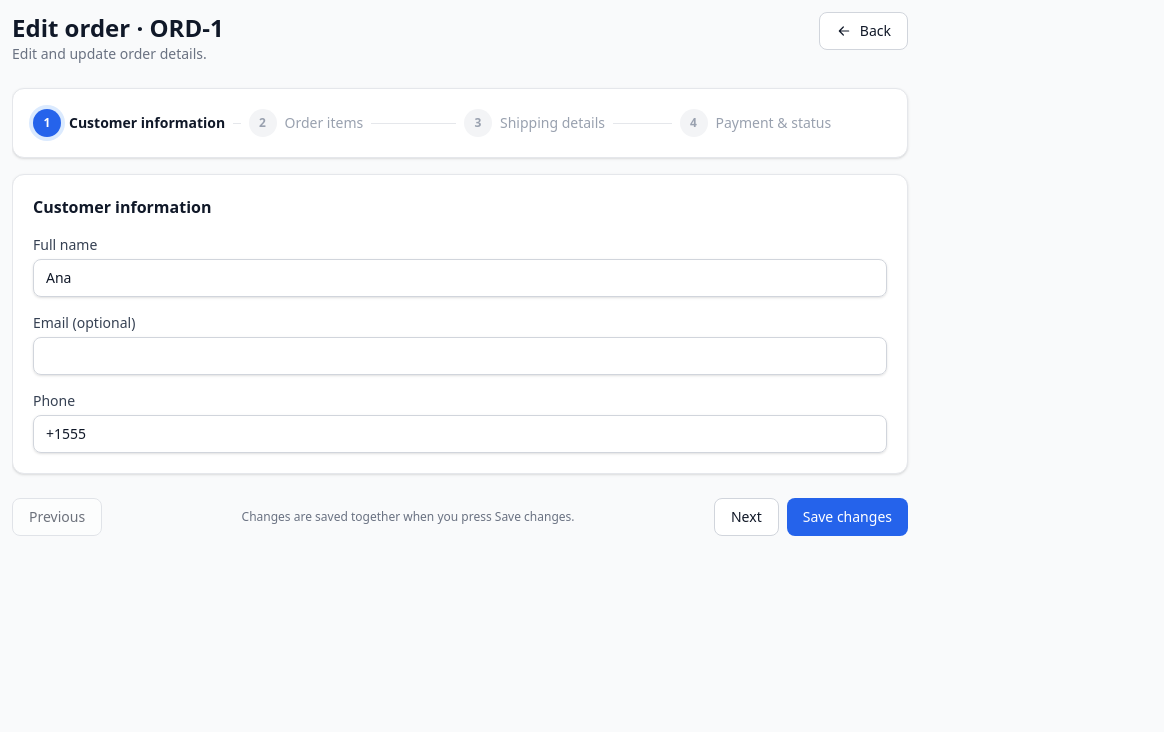
it: order edit page › locks items, shipping and payment status on an order already paid by card
Expected: the field labelled "Full name" is shown, [33,259,887,297]
Click the button "2 Order items" at (306, 123), box [248,109,363,137]
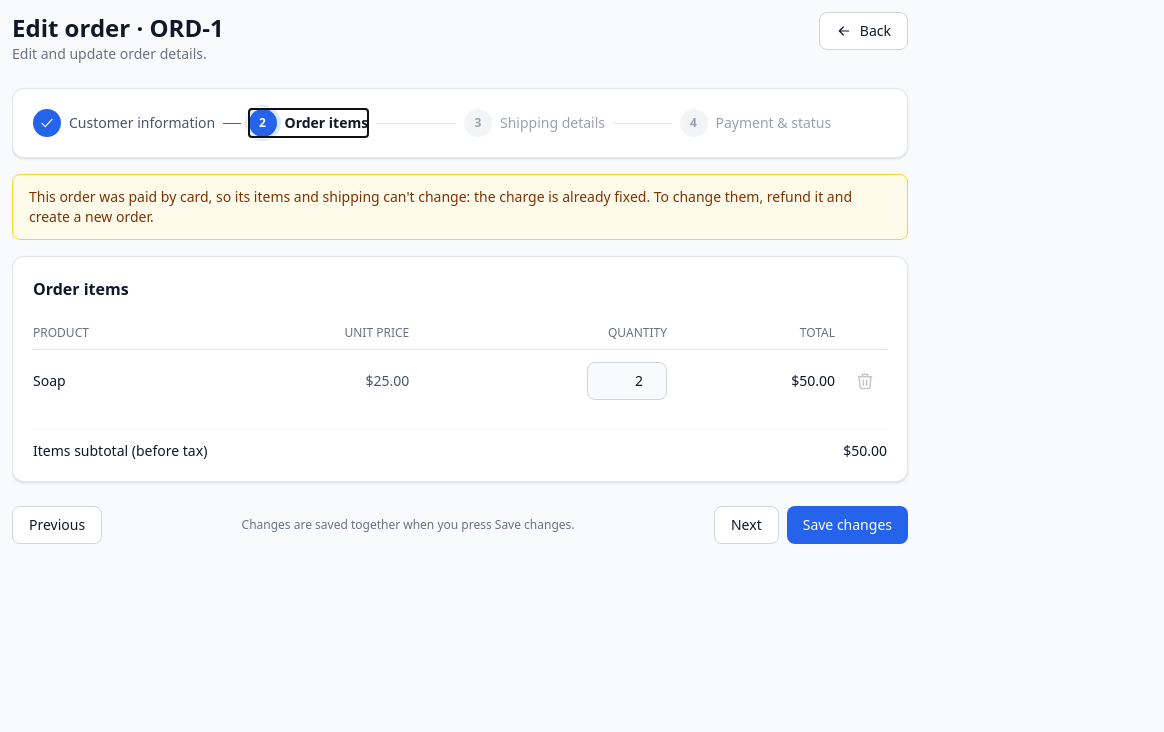
Expected: the text "paid by card" is shown, [29,187,852,226]
Expected: the number field named "Quantity Soap" is disabled, [587,362,667,400]
Click the button "3 Shipping details" at (534, 123), box [464,109,605,137]
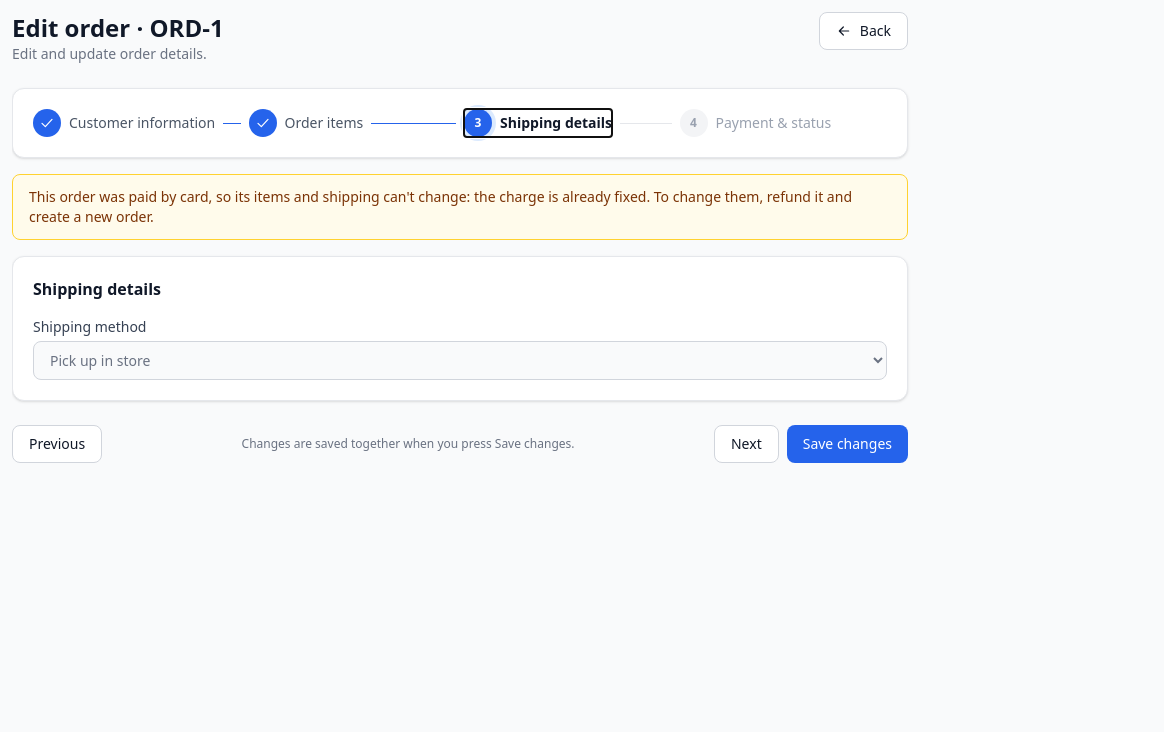
Expected: the dropdown labelled "Shipping method" is disabled, [33,341,887,380]
Click the button "4 Payment & status" at (755, 123), box [680,109,831,137]
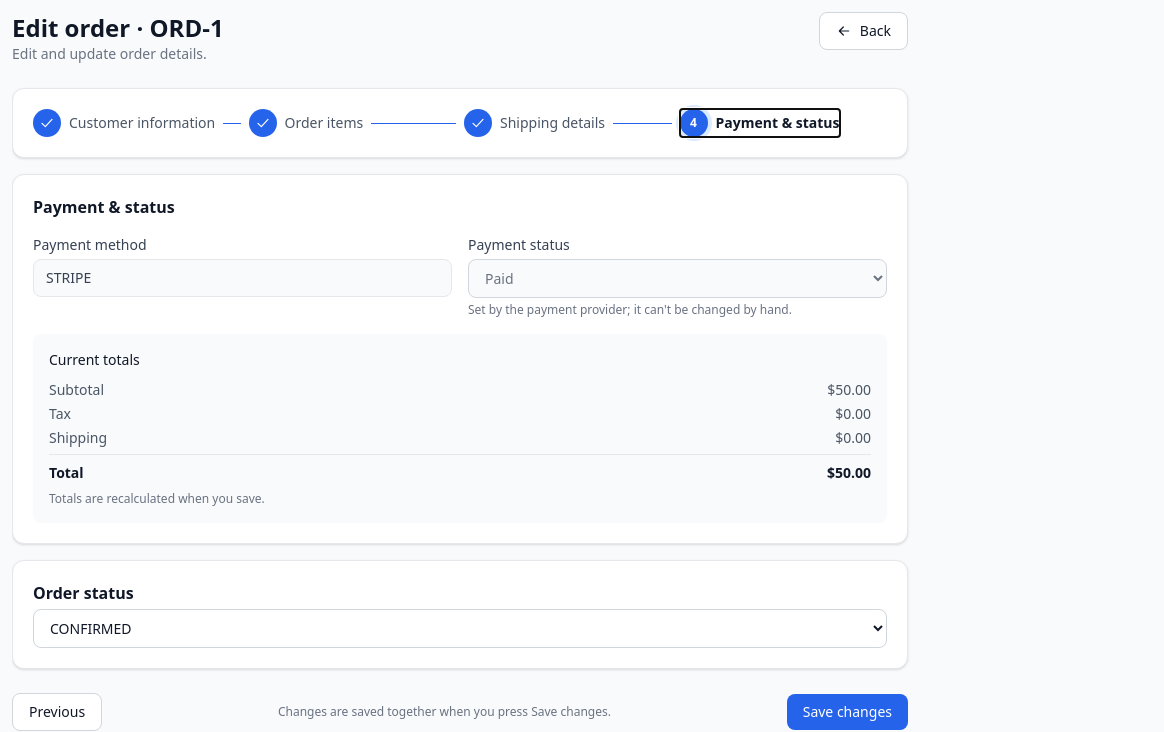
Expected: the dropdown labelled "Payment status" is disabled, [468,259,887,298]
